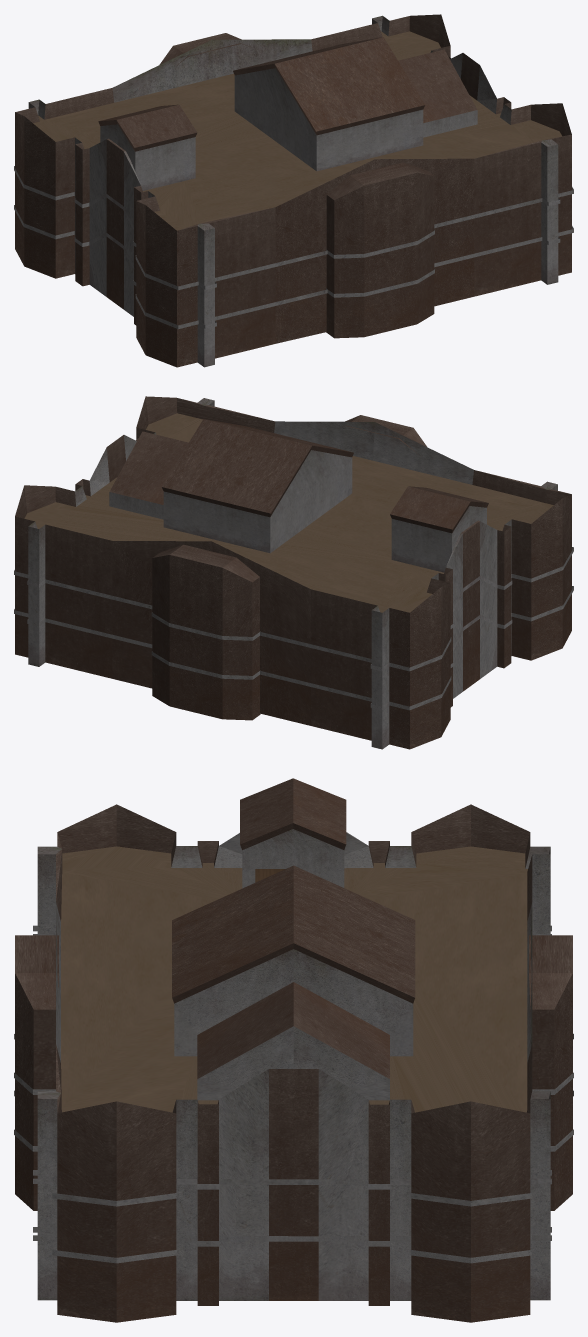
File: ORB_7_S3_Detail_3.fbx
3 views of the same model, one above another, from view 1: azimuth 30°, elevation 25°; view 2: azimuth 150°, elevation 25°; view 3: azimuth 270°, elevation 25° (orthographic). The views are drawn at different scales.
Parts seen in each view (by area): view 1: ORB_7_S3_Detail_3; view 2: ORB_7_S3_Detail_3; view 3: ORB_7_S3_Detail_3.
Part boxes in pixels (left/top/right/bottom): ORB_7_S3_Detail_3: left=14, top=14, right=573, bottom=367; ORB_7_S3_Detail_3: left=14, top=396, right=573, bottom=749; ORB_7_S3_Detail_3: left=14, top=778, right=573, bottom=1322.
Size of the model in its own units: 2968 by 1371 by 2358.
